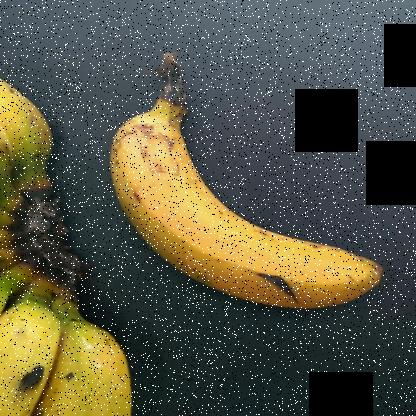ripe: (89, 79, 378, 323)
